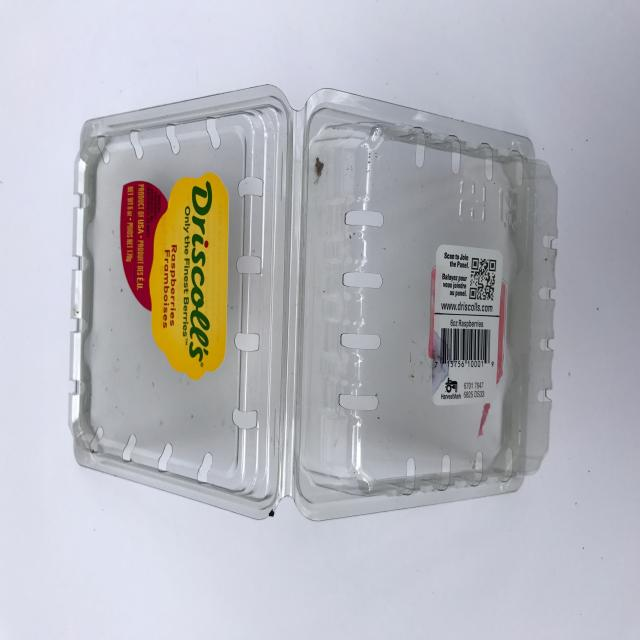plastic: (69, 85, 558, 521)
